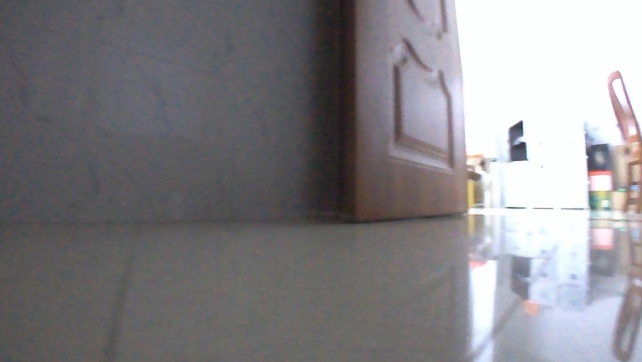door_anno: (333, 0, 470, 228)
